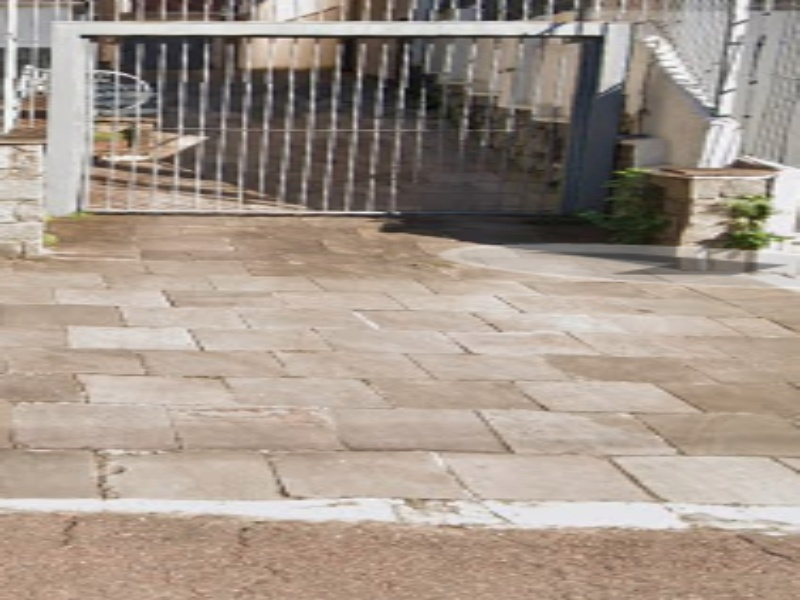g74: (45, 431, 800, 554)
